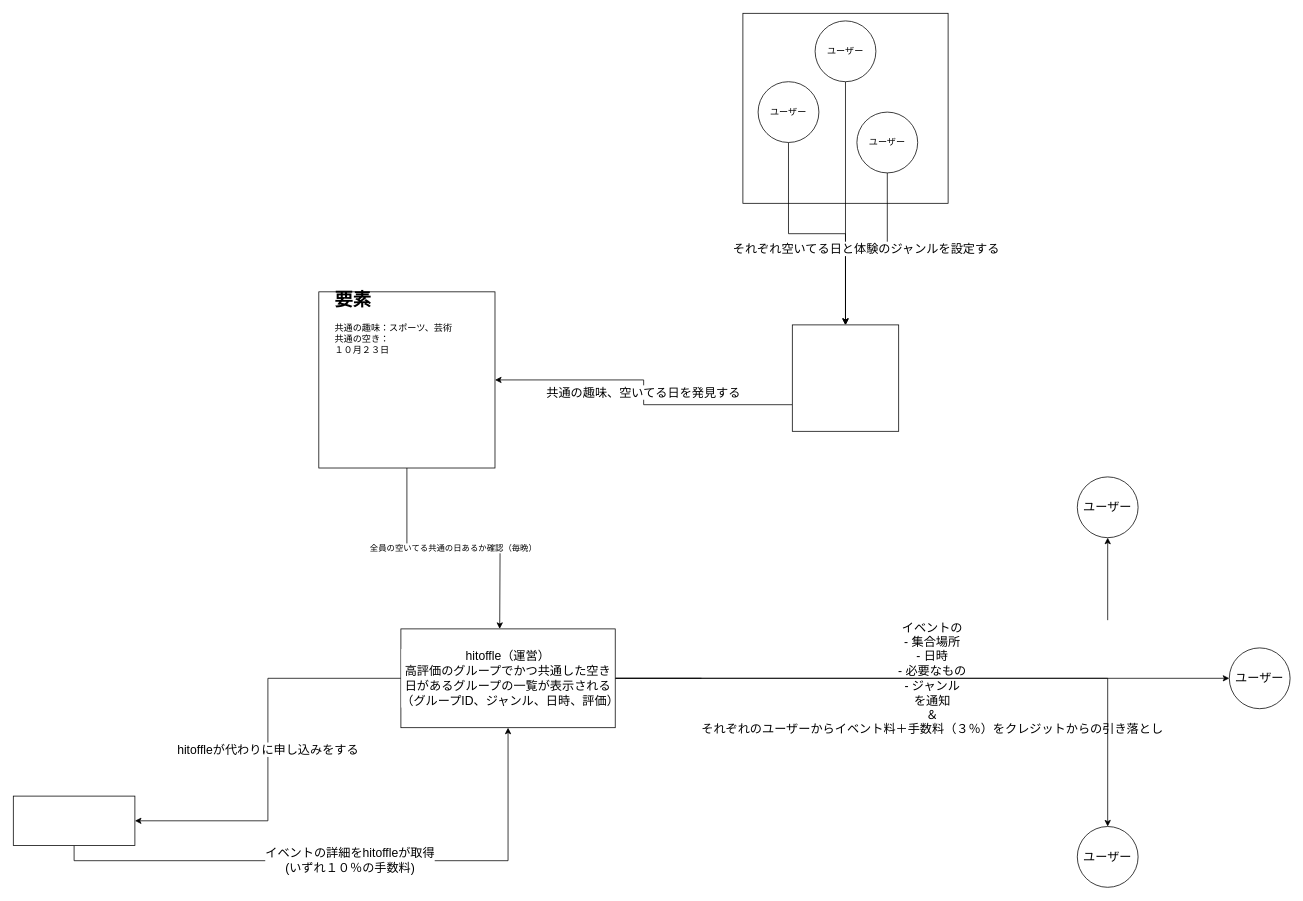
Image size: 1303x901. Some labels were removed from this diagram. Here are the shapes that lost their labels. From the top down, the box of each, then its label:
(742, 13, 948, 203): グループA
(318, 291, 495, 468): 共通の空き、趣味を発見
(792, 324, 899, 431): hitoffle（アプリ）
(13, 795, 135, 846): 体験提供会社
